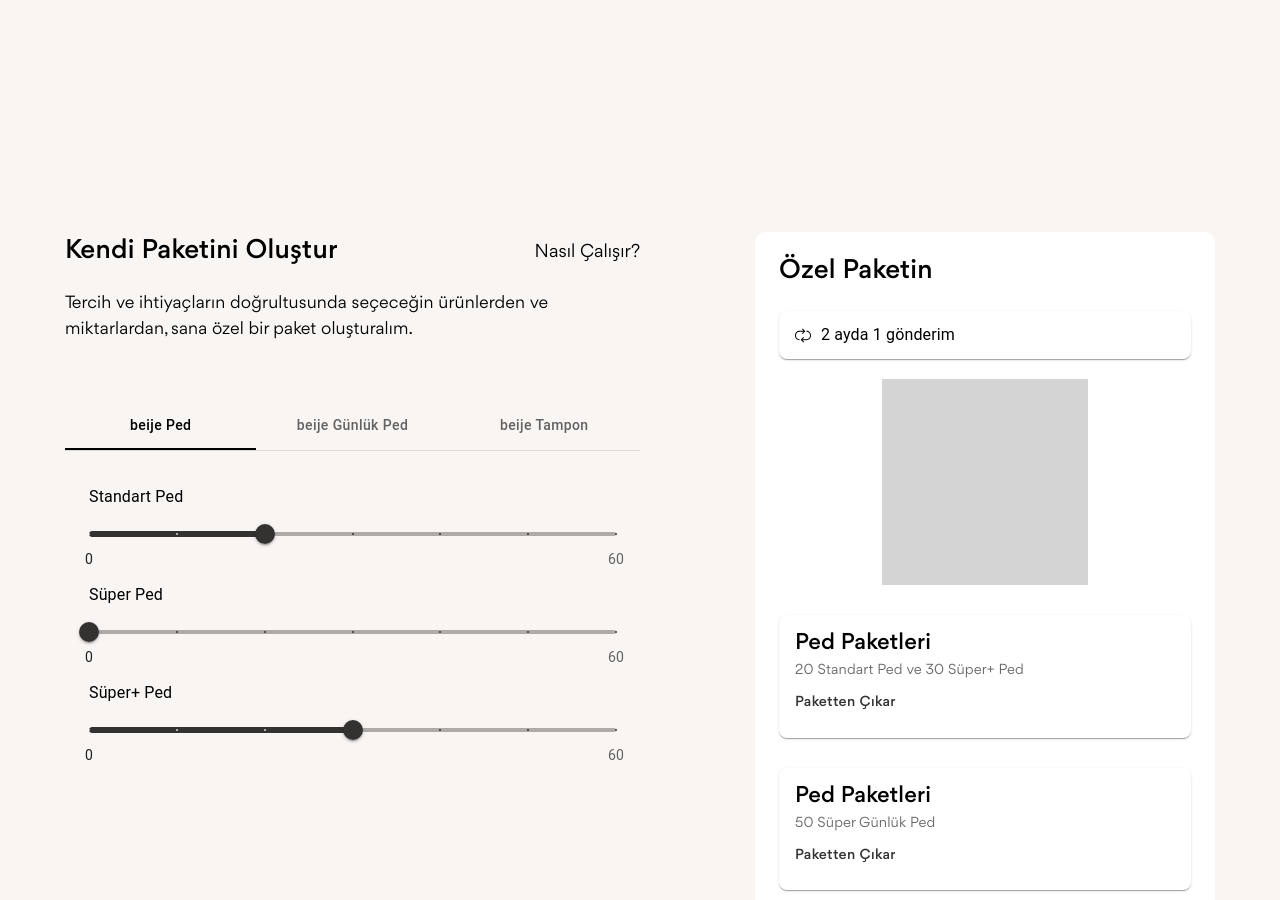
it: Medium component › user removes 30 super daily pad by slider
The image size is (1280, 900).
Click the tab "beije Günlük Ped".
click(352, 426)  # box [256, 402, 448, 450]
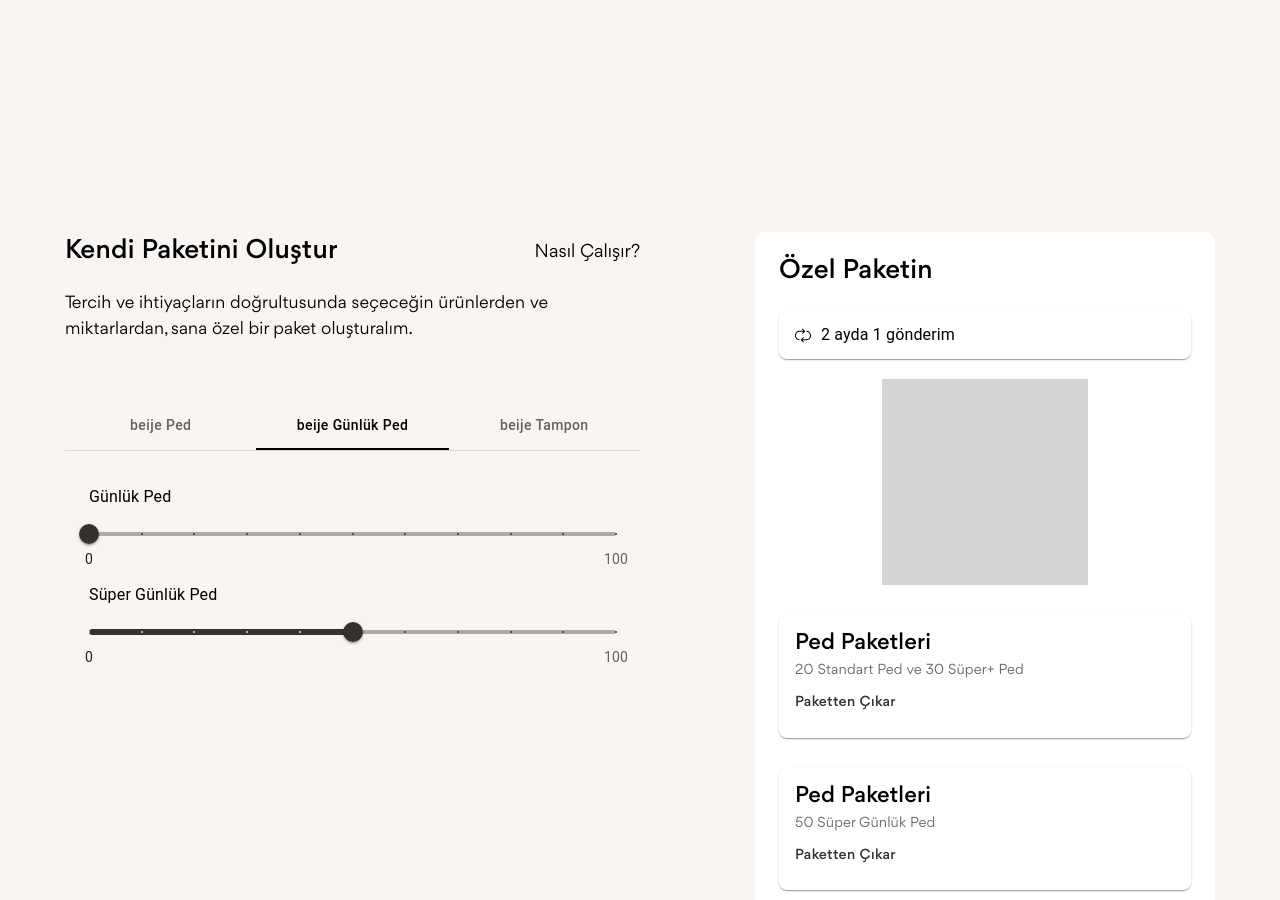
Set the 2nd slider named "slider" to "20" at (352, 632), box [342, 622, 362, 642]
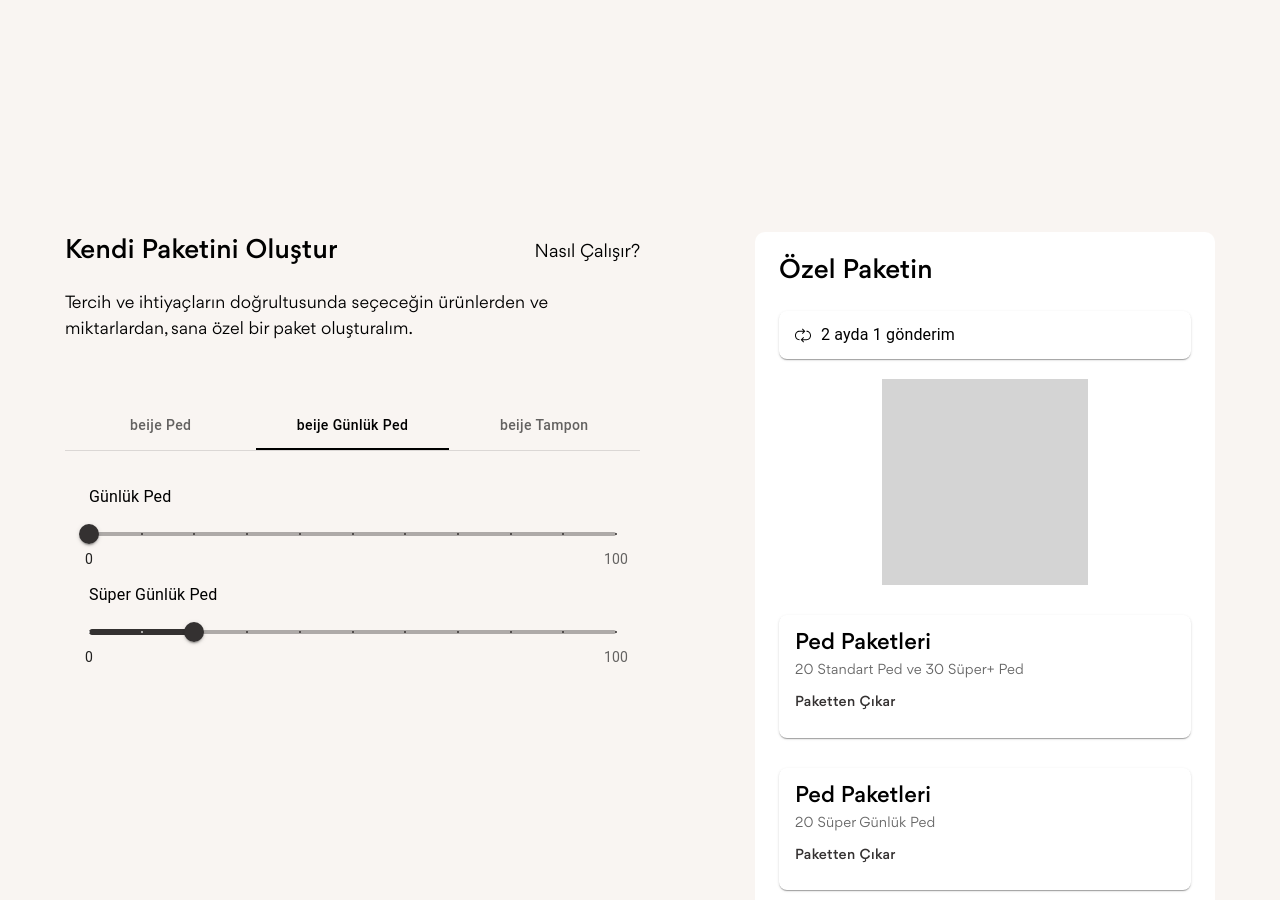
expect the text "20 Süper Günlük Ped" is shown: met, box [795, 816, 935, 830]
